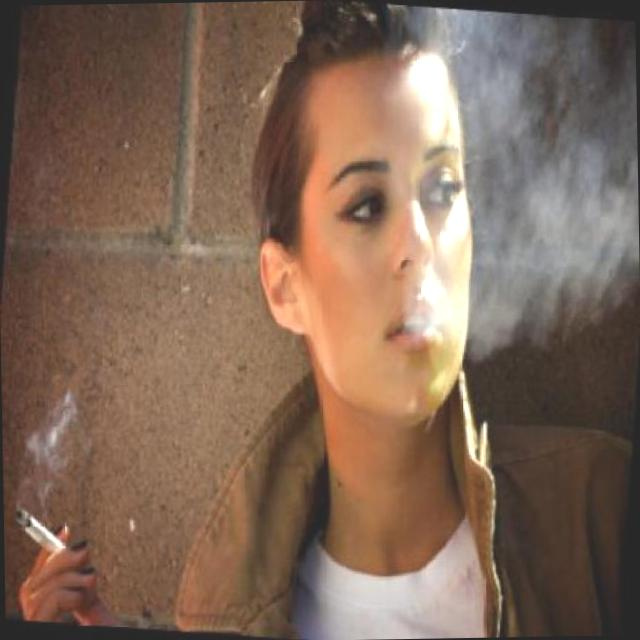smoke: (4, 498, 90, 580)
